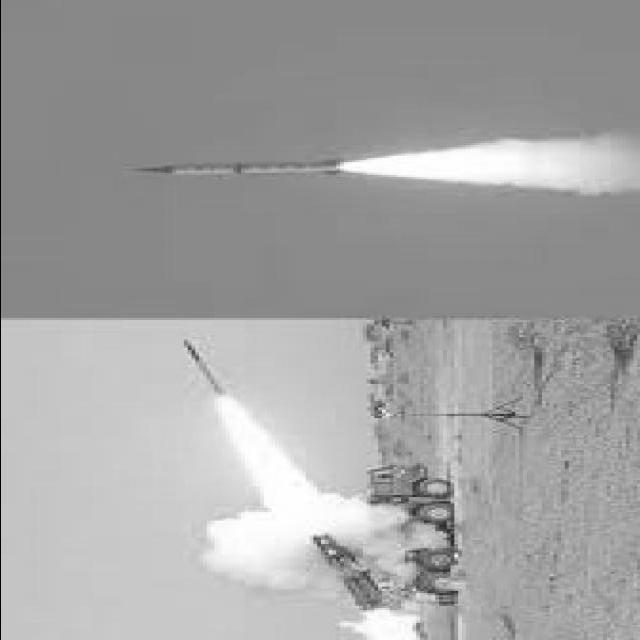Missile: (114, 157, 341, 177), (176, 337, 225, 398)
